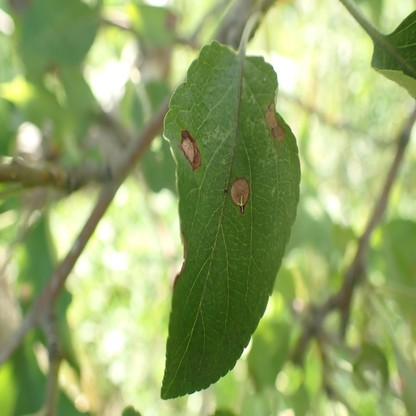frogeye_leaf_spot: (179, 129, 202, 173), (264, 99, 285, 142), (230, 178, 249, 214)
